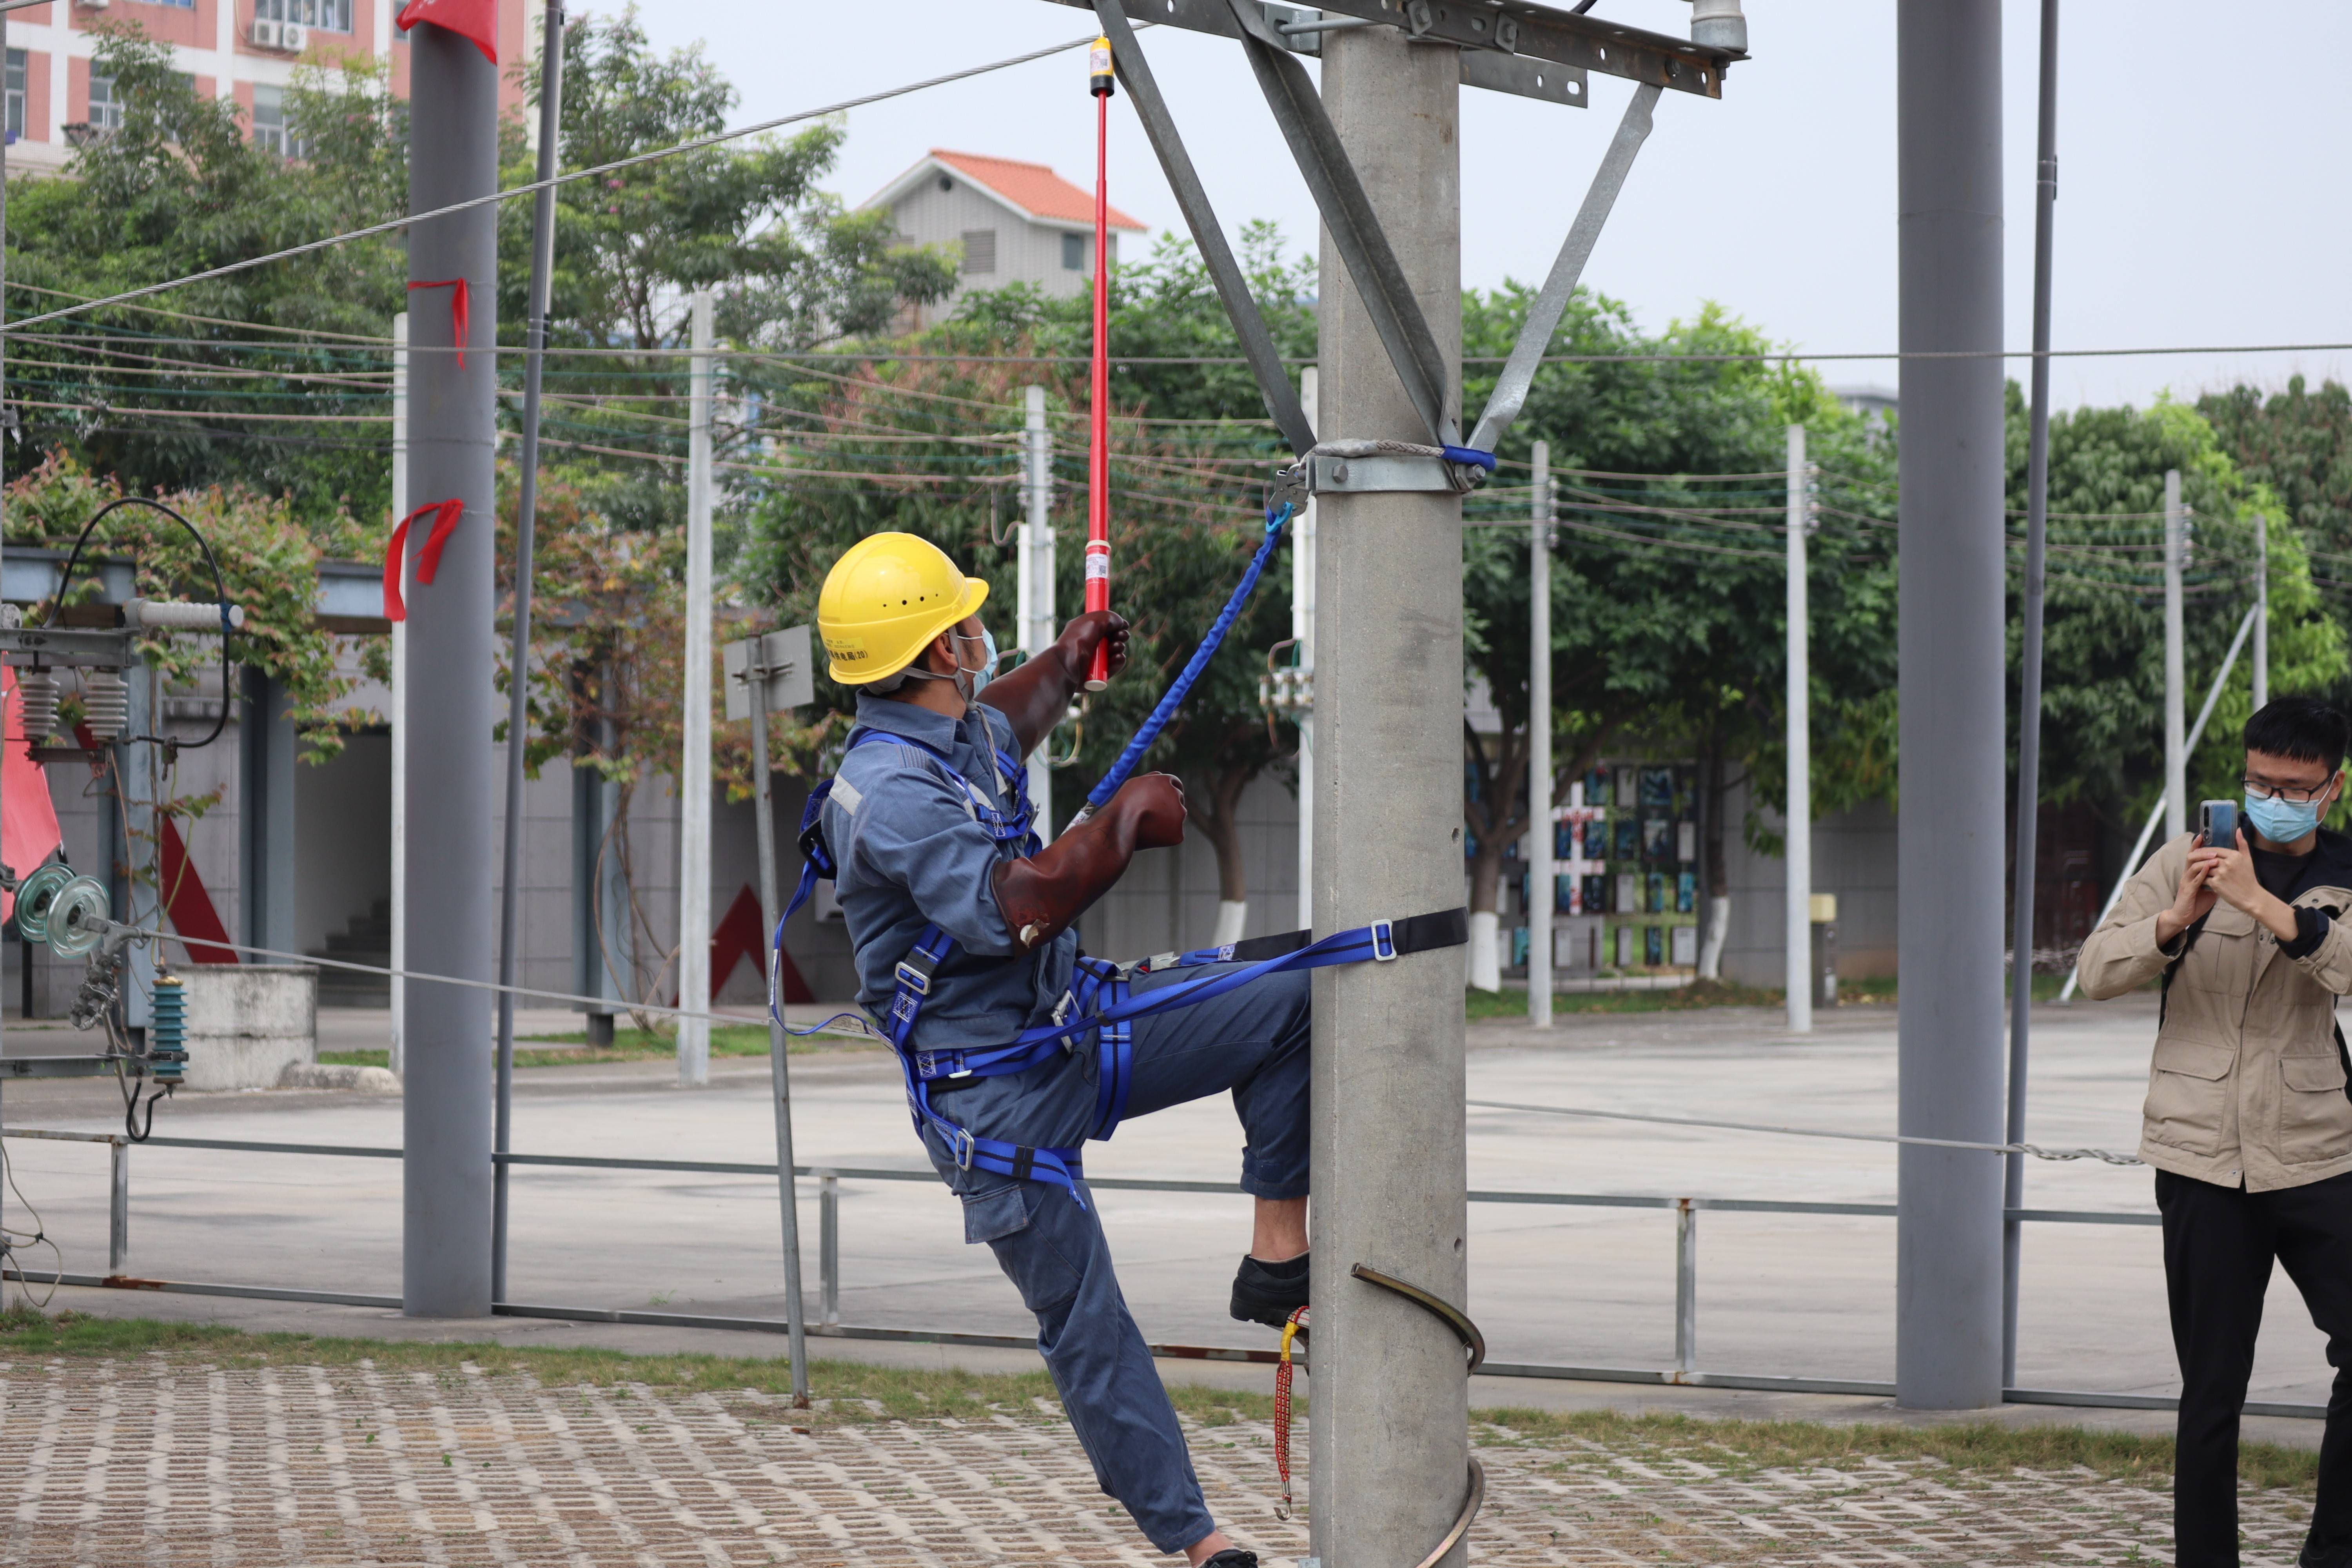downcloth: (2158, 1186, 2352, 1563)
downsuit: (914, 957, 1319, 1551)
upcloth: (2119, 837, 2352, 1176)
upsuit: (821, 710, 1085, 1039)
wrongbottom: (1237, 1136, 1309, 1269)
